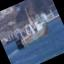fishing boat: (6, 8, 55, 52)
